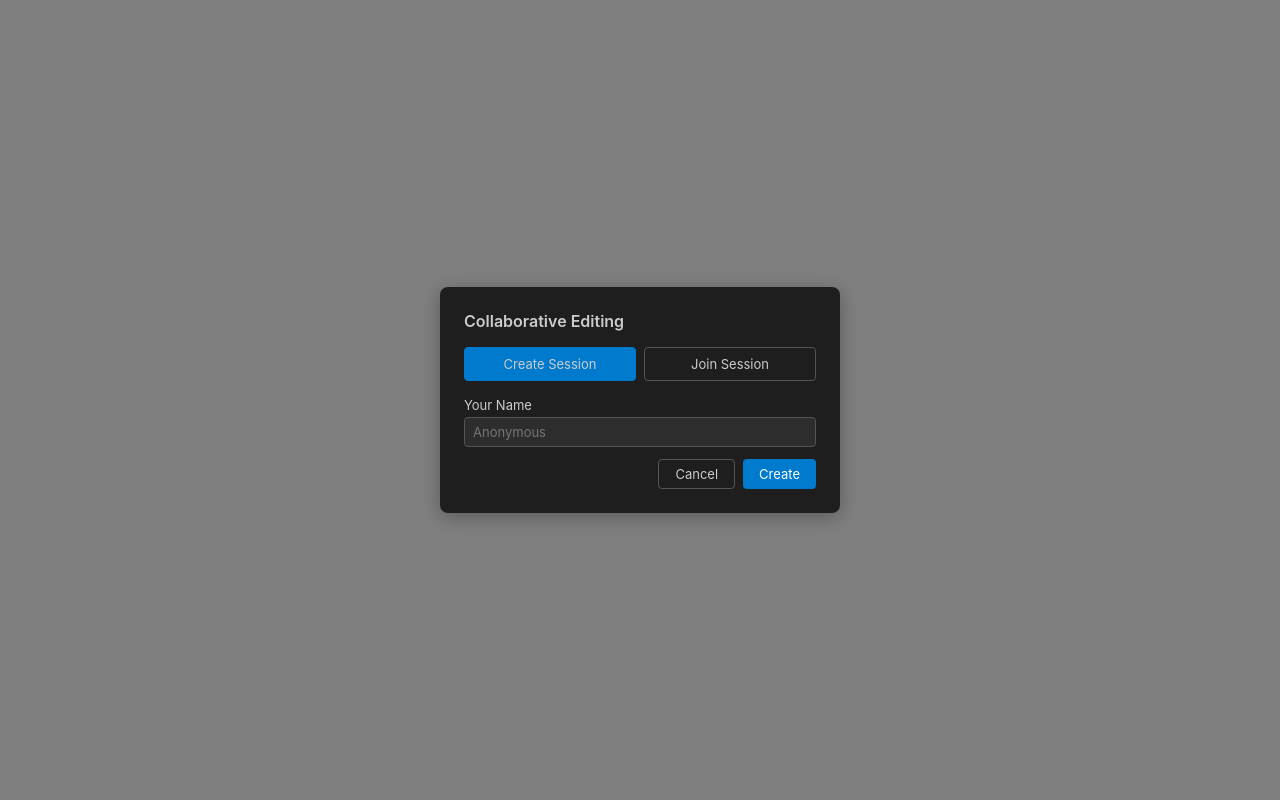
Test: CollaborationDialogViewPresenter › should show error when joining with empty room ID
Click the button "Join Session" at point(730, 364), box [644,347,816,381]
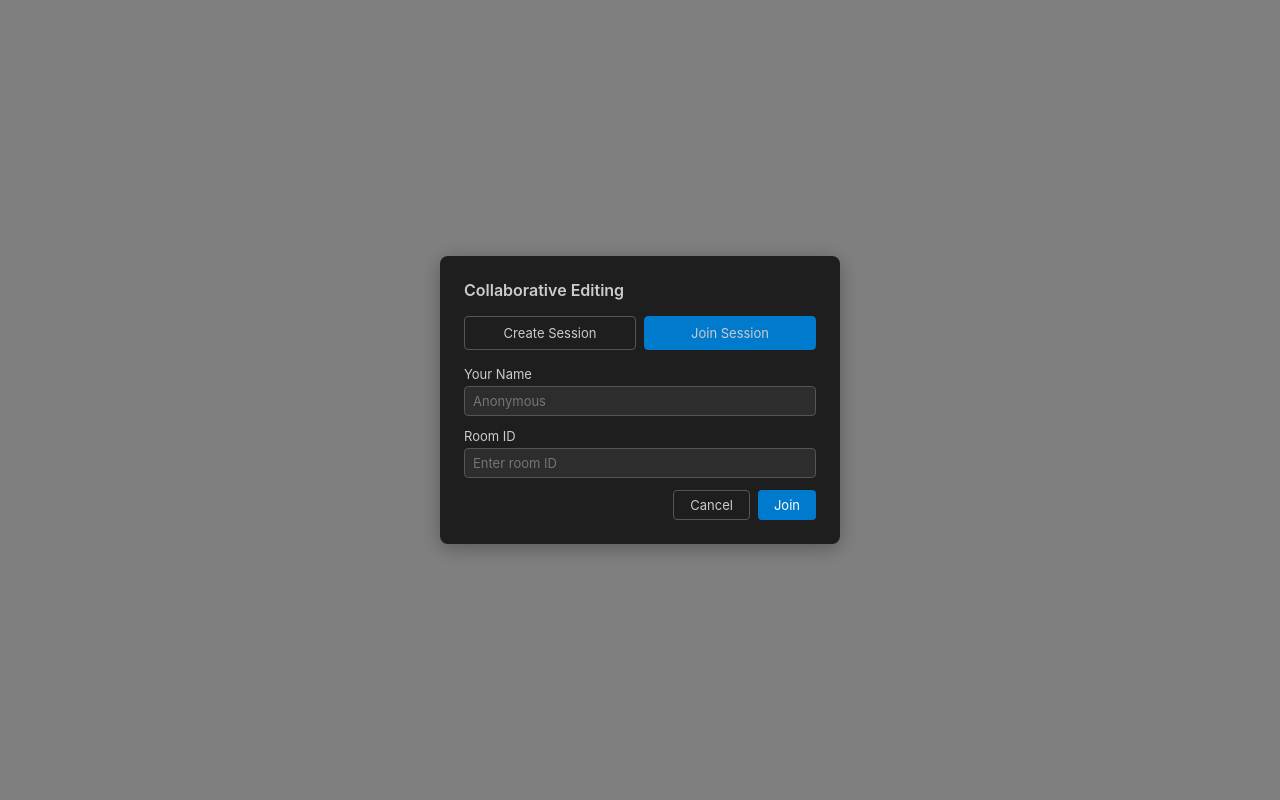
Click the button "Join" at point(787, 505), box [758,490,816,520]
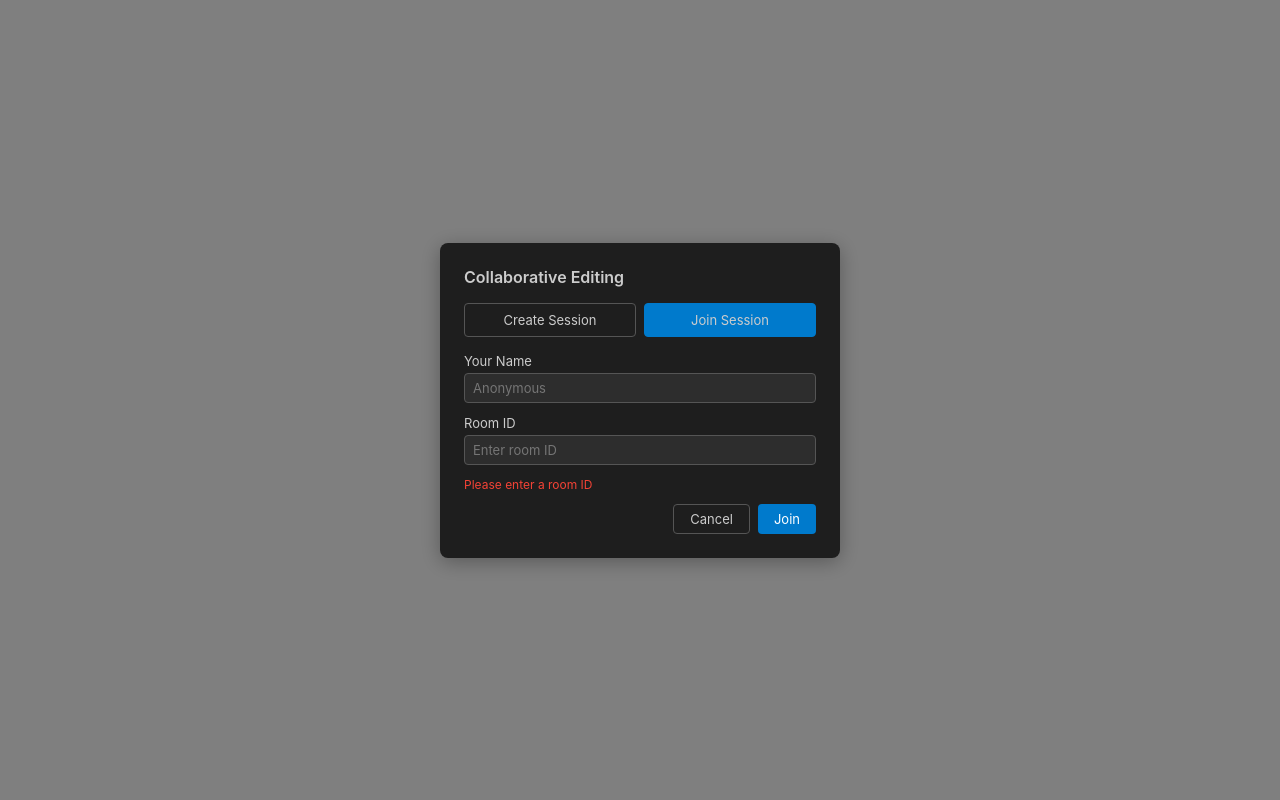
Expected: the message "Please enter a room ID" is shown, [464,476,592,492]
